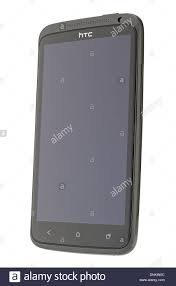htc: (25, 10, 143, 256)
